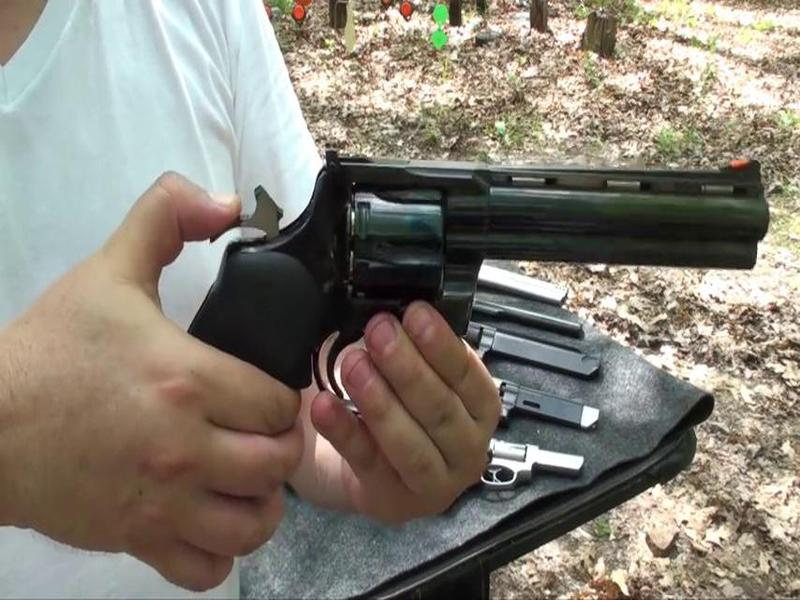Revolver: (216, 126, 777, 420)
